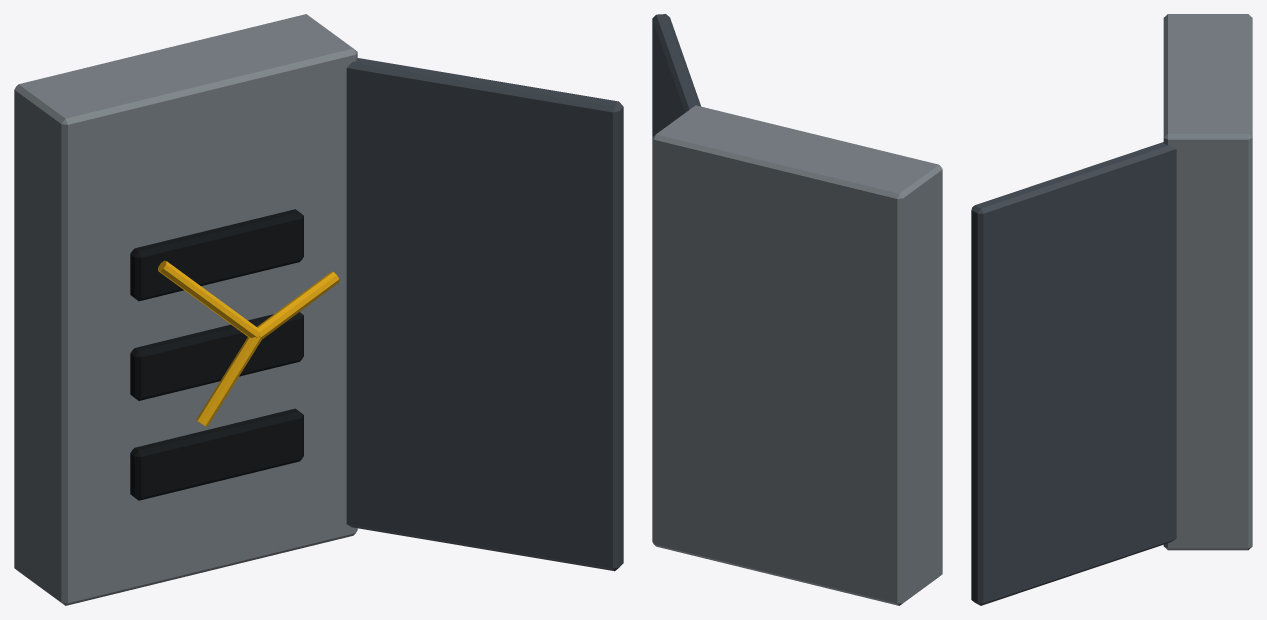
File: DamagedElectricalBoard.fbx
The picture shows the model from 3 angles, left to right: view 1: azimuth 30°, elevation 25°; view 2: azimuth 150°, elevation 25°; view 3: azimuth 270°, elevation 25°; orthographic projection. The views are drawn at different scales.
Visible parts, largest first — view 1: DamagedElectricalBoard; view 2: DamagedElectricalBoard; view 3: DamagedElectricalBoard.
Boxes of the visible parts, x1=… form: DamagedElectricalBoard: x1=14, y1=14, x2=623, y2=605; DamagedElectricalBoard: x1=652, y1=14, x2=942, y2=605; DamagedElectricalBoard: x1=971, y1=14, x2=1252, y2=605.
Size of the model in its own units: 85.35 by 88 by 53.85.
1 material, 1 textured.
